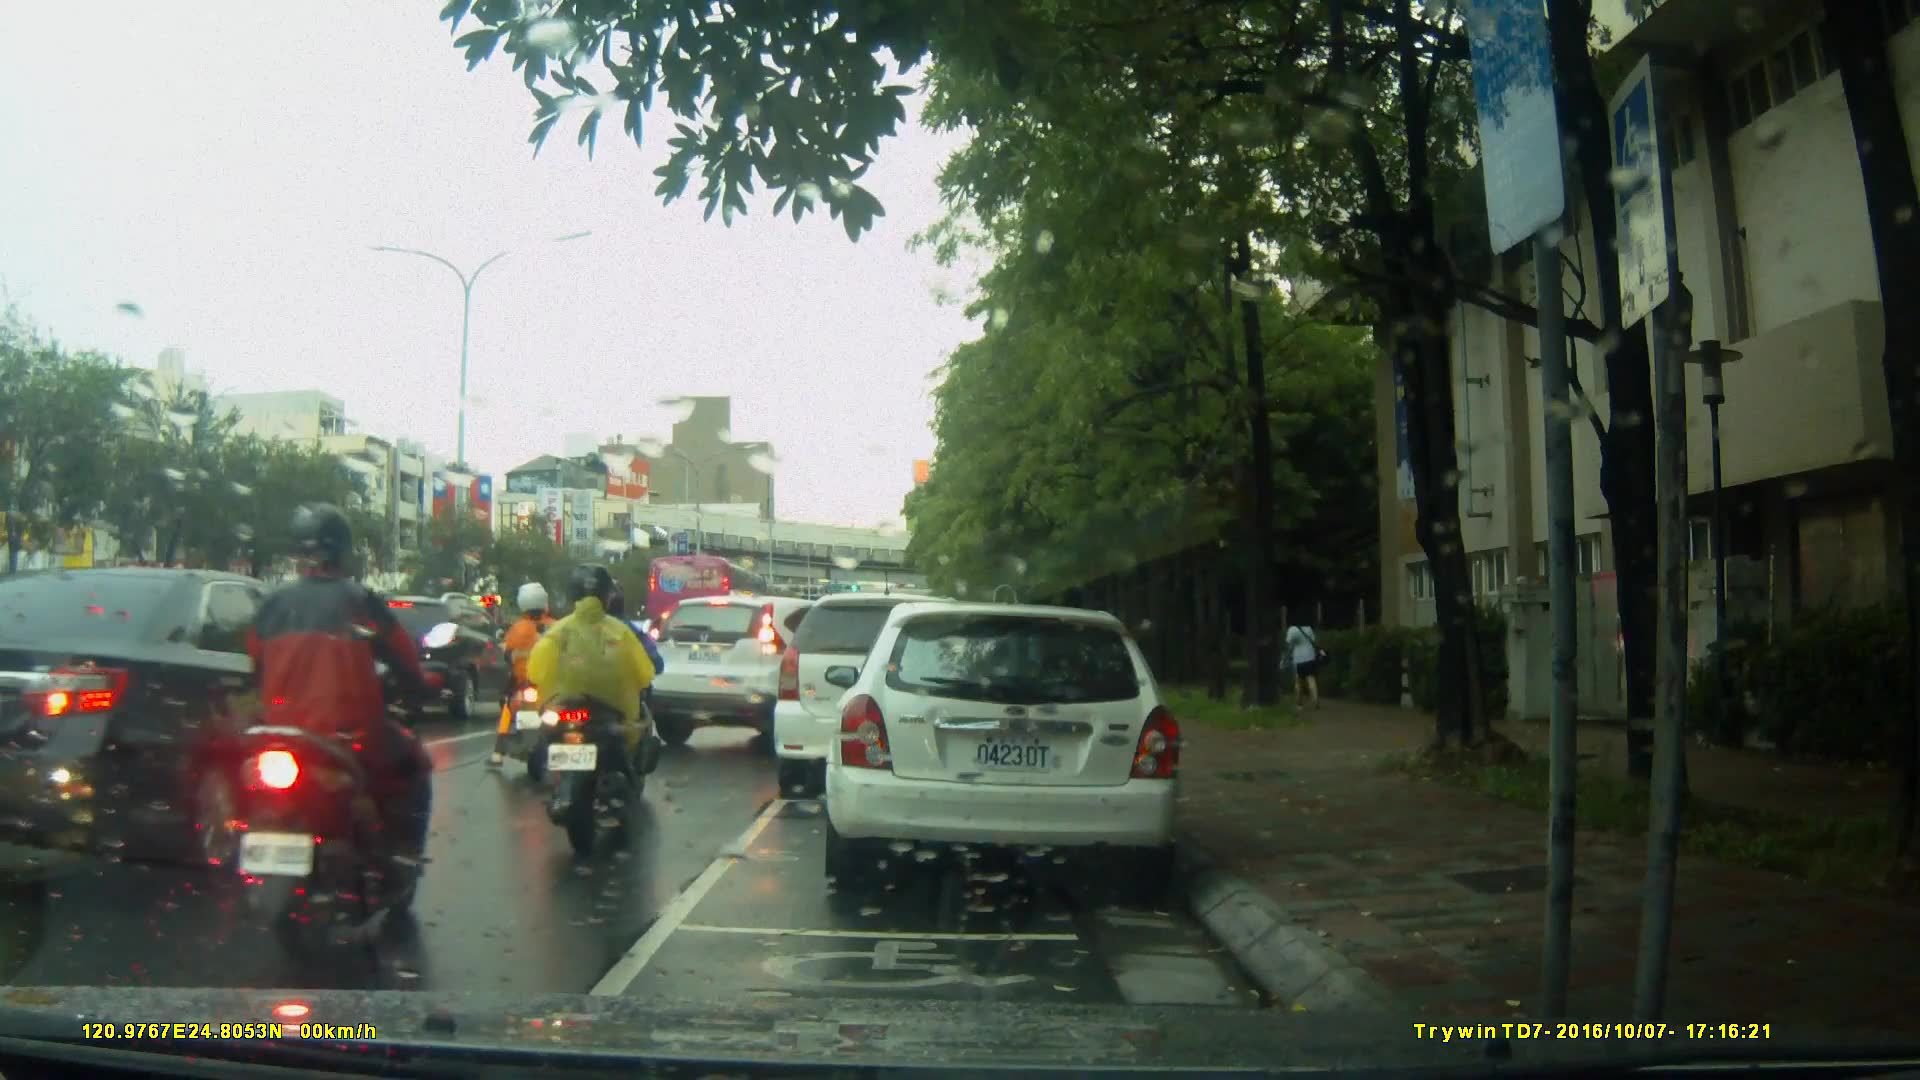pedestrian: (1277, 604, 1330, 720)
rider: (224, 509, 474, 959), (529, 572, 655, 847), (563, 574, 662, 810), (494, 582, 567, 785)
vehicle: (1, 563, 417, 891), (835, 594, 1194, 898), (776, 590, 1026, 784), (640, 590, 892, 756), (326, 591, 538, 723), (645, 553, 772, 641)
